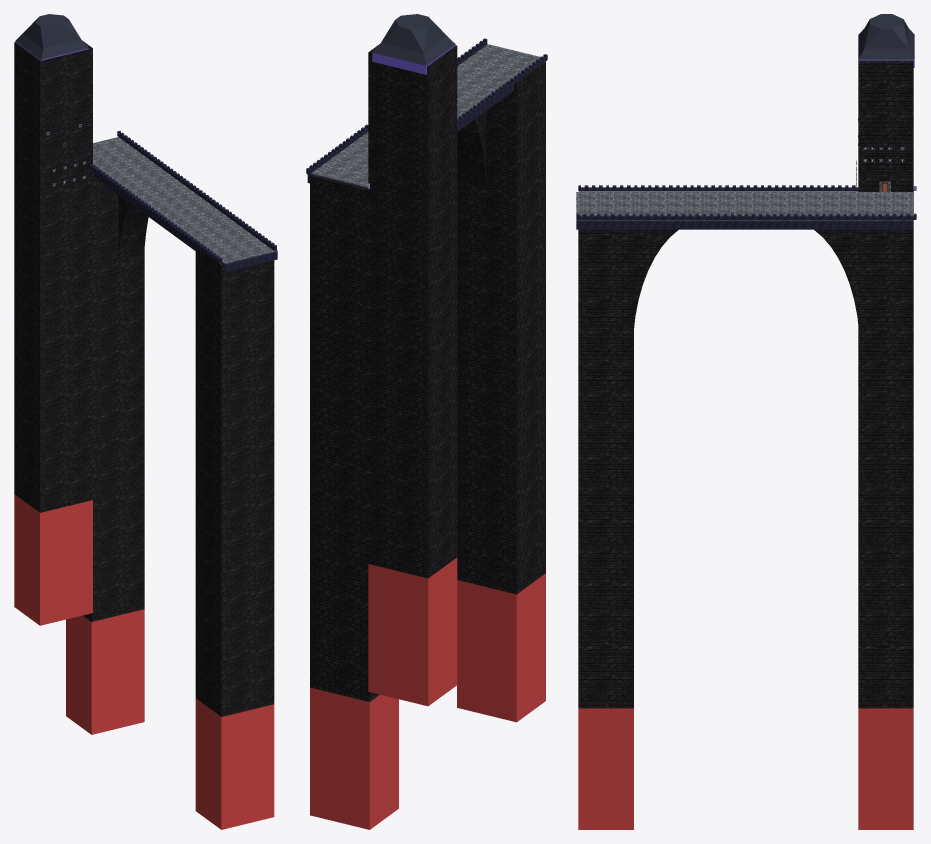
Rendered from aqueduct.glb.
3 views of the same model, side by side, from view 1: azimuth 30°, elevation 25°; view 2: azimuth 150°, elevation 25°; view 3: azimuth 270°, elevation 25° (orthographic). The views are drawn at different scales.
Visible parts, largest first — view 1: block (×3), floor, window_dome, halfPipe_half; view 2: block (×3), floor, window_dome, halfPipe_half; view 3: block (×3), floor, halfPipe_half (×2), window_dome.
Part boxes in pixels (left/top/right/bottom): block (×3): left=14, top=41, right=274, bottom=829; floor: left=93, top=137, right=277, bottom=272; window_dome: left=15, top=14, right=88, bottom=60; halfPipe_half: left=118, top=195, right=148, bottom=260; block (×3): left=310, top=44, right=545, bottom=829; floor: left=307, top=44, right=539, bottom=189; window_dome: left=372, top=14, right=455, bottom=74; halfPipe_half: left=457, top=111, right=486, bottom=189; block (×3): left=578, top=35, right=913, bottom=829; floor: left=576, top=192, right=912, bottom=229; halfPipe_half (×2): left=634, top=229, right=858, bottom=327; window_dome: left=858, top=14, right=914, bottom=67.
Bounding box in the file's own units: 38.27 × 244 × 97.97.
124 materials, 92 textured.
